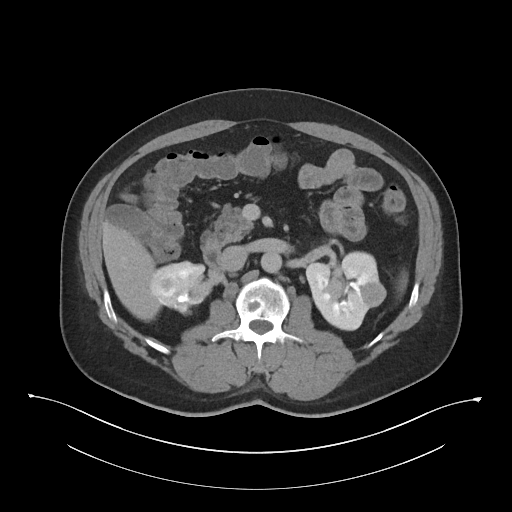Lesion: (357, 280, 390, 314)
